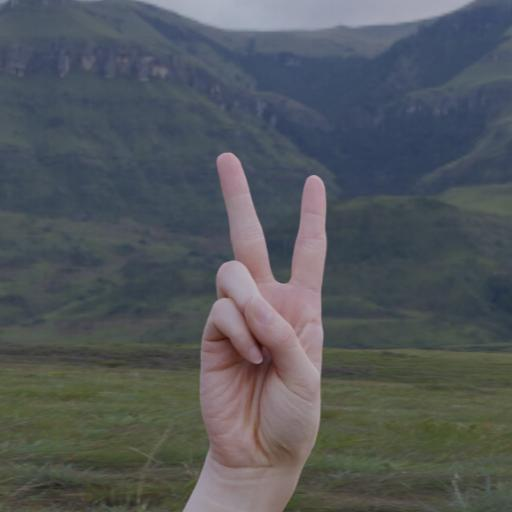V: (196, 146, 334, 473)
